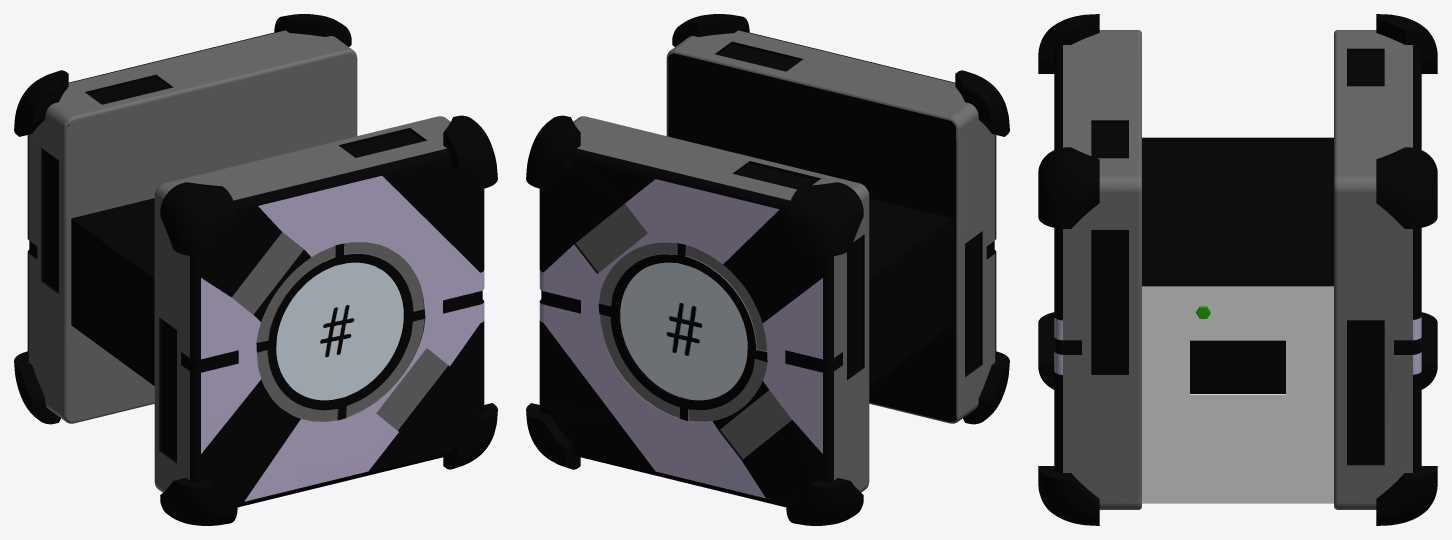
The model's file is AstrobeeBSharp.dae.
3 renders of one model, left to right at view 1: azimuth 30°, elevation 25°; view 2: azimuth 150°, elevation 25°; view 3: azimuth 270°, elevation 25°, orthographic. The views are drawn at different scales.
Parts seen in each view (by area): view 1: A9Sp-1500-M130-1_Merge; view 2: A9Sp-1500-M130-1_Merge; view 3: A9Sp-1500-M130-1_Merge.
Boxes of the visible parts, x1,y1,x2,y2 form: A9Sp-1500-M130-1_Merge: (14,14,497,525); A9Sp-1500-M130-1_Merge: (526,14,1009,525); A9Sp-1500-M130-1_Merge: (1038,14,1437,525).
Bounding box in the file's own units: 0.3093 × 0.3093 × 0.3093.
1 material, 1 textured.
